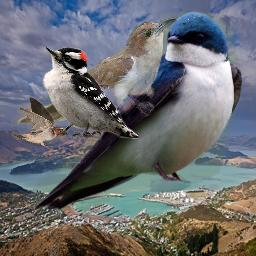Cuckoo: (16, 17, 177, 126)
Swallow: (33, 11, 243, 213), (11, 97, 66, 147)
Woodpecker: (42, 47, 138, 139)
